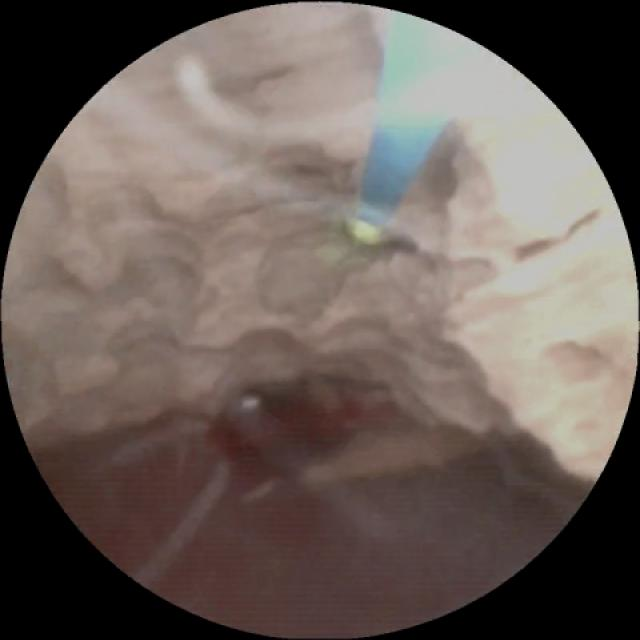fiber: (356, 112, 444, 223)
stone: (17, 8, 626, 487)
